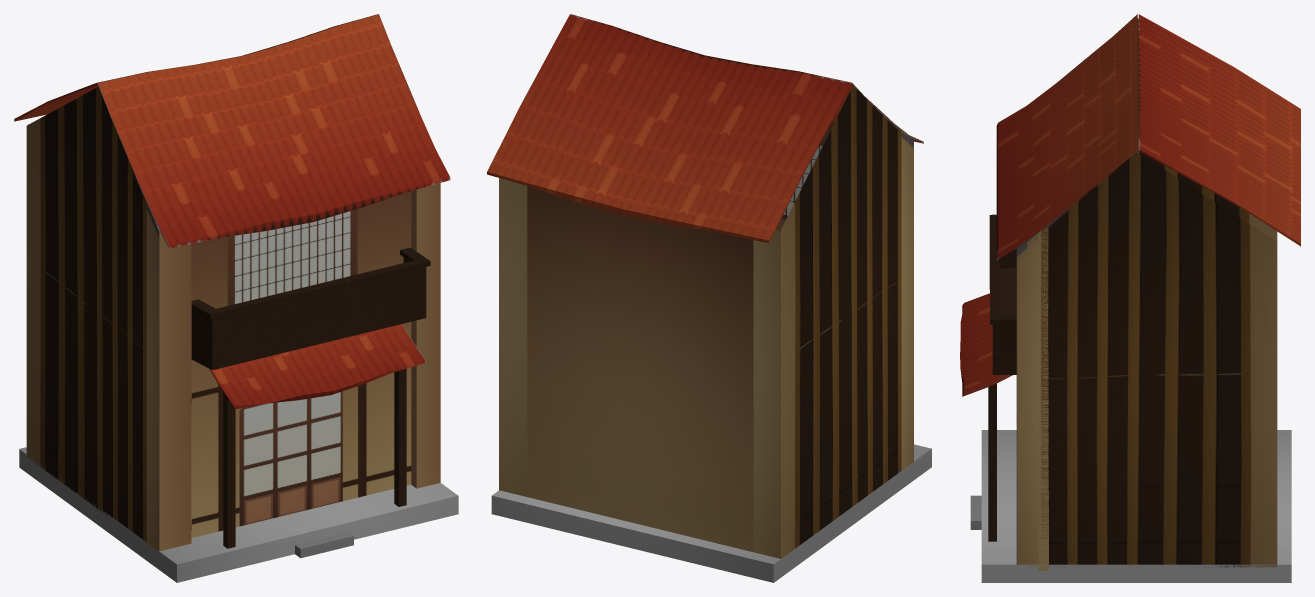
Rendered from miCasaLP2.fbx.
3 renders of one model, left to right at view 1: azimuth 30°, elevation 25°; view 2: azimuth 150°, elevation 25°; view 3: azimuth 270°, elevation 25°, orthographic.
Visible parts, largest first — view 1: listonesIzquierda; view 2: listonesIzquierda; view 3: listonesIzquierda.
Boxes of the visible parts, <box> form: listonesIzquierda: <box>14,14,458,582</box>; listonesIzquierda: <box>487,14,931,582</box>; listonesIzquierda: <box>960,14,1300,582</box>.
Bounding box in the file's own units: 100 × 150 × 107.
1 material, 1 textured.
